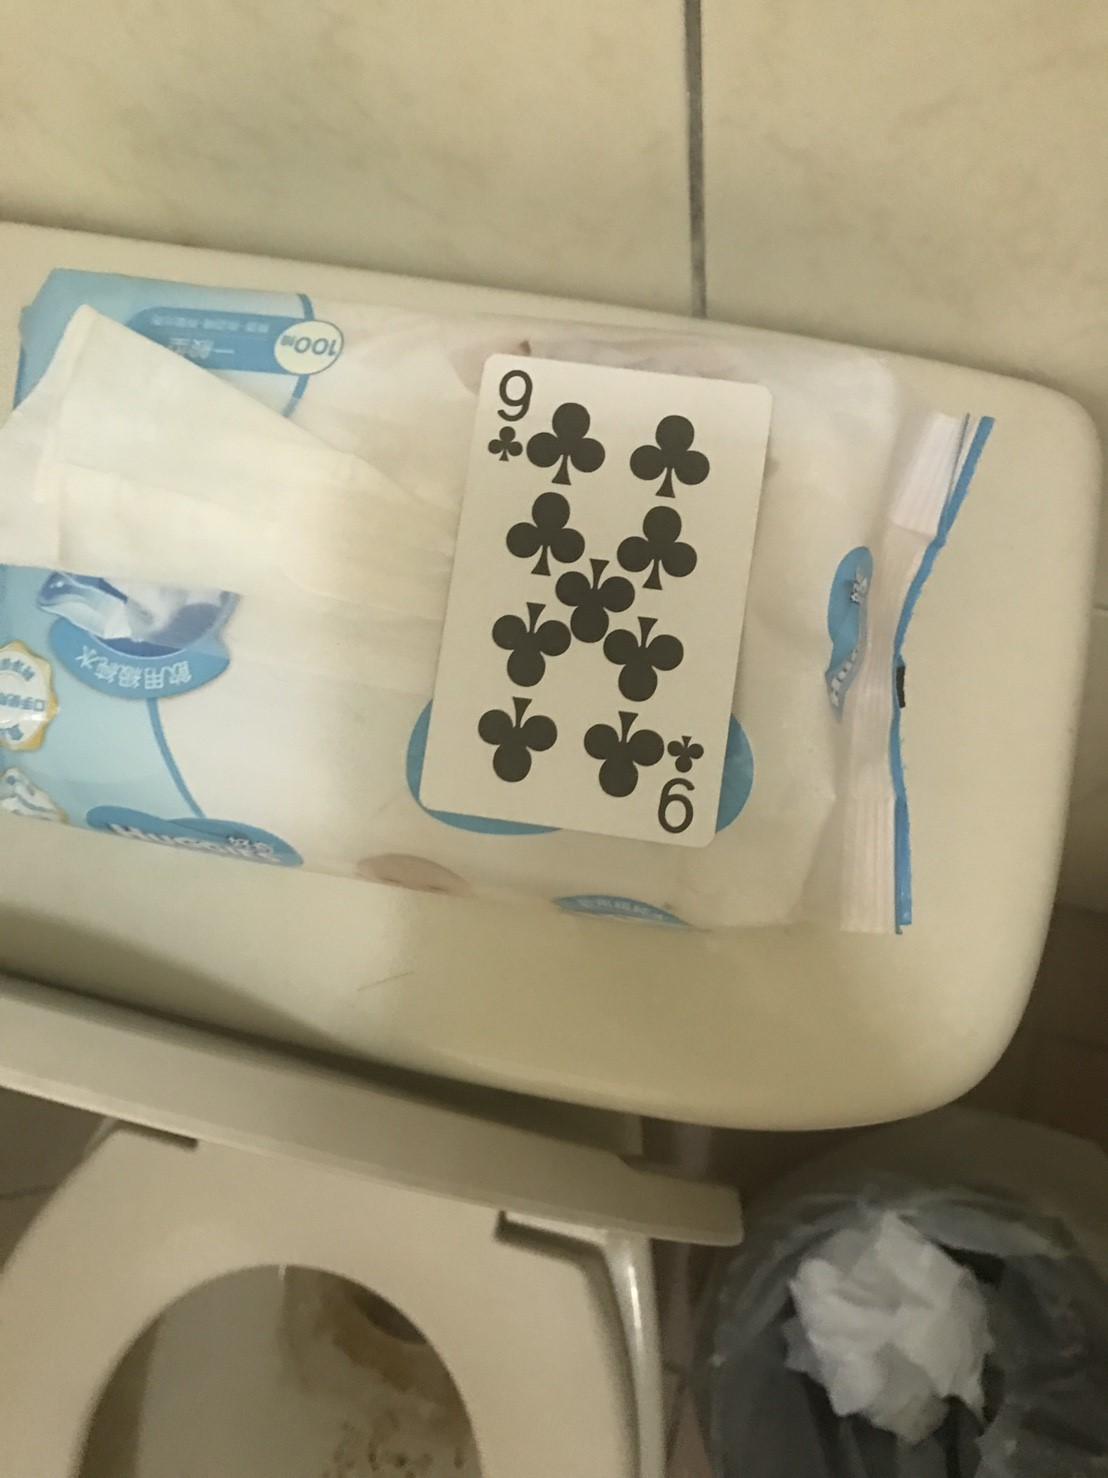clubs: (596, 607, 699, 706), (625, 412, 712, 500), (474, 695, 557, 787), (491, 601, 574, 692), (553, 550, 634, 644), (578, 715, 663, 802), (524, 397, 606, 483), (615, 507, 692, 587), (506, 492, 582, 574), (667, 733, 708, 774), (489, 421, 519, 461)
